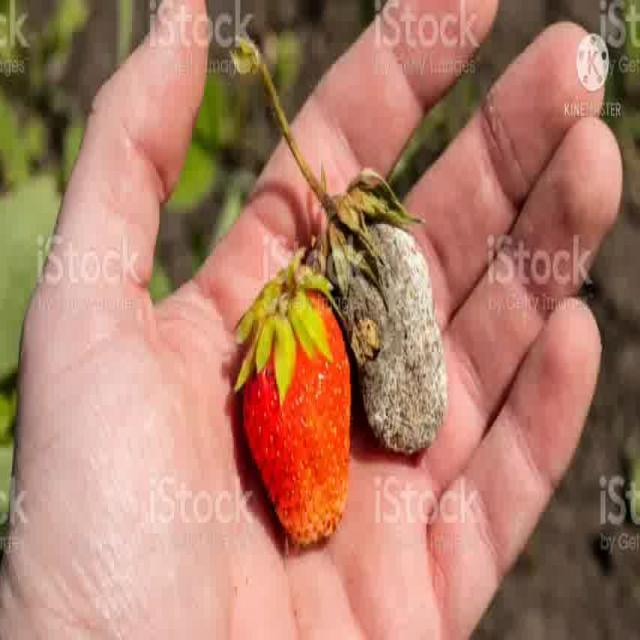Fruta sana: (223, 272, 357, 556)
Moho gris: (339, 204, 452, 453)
